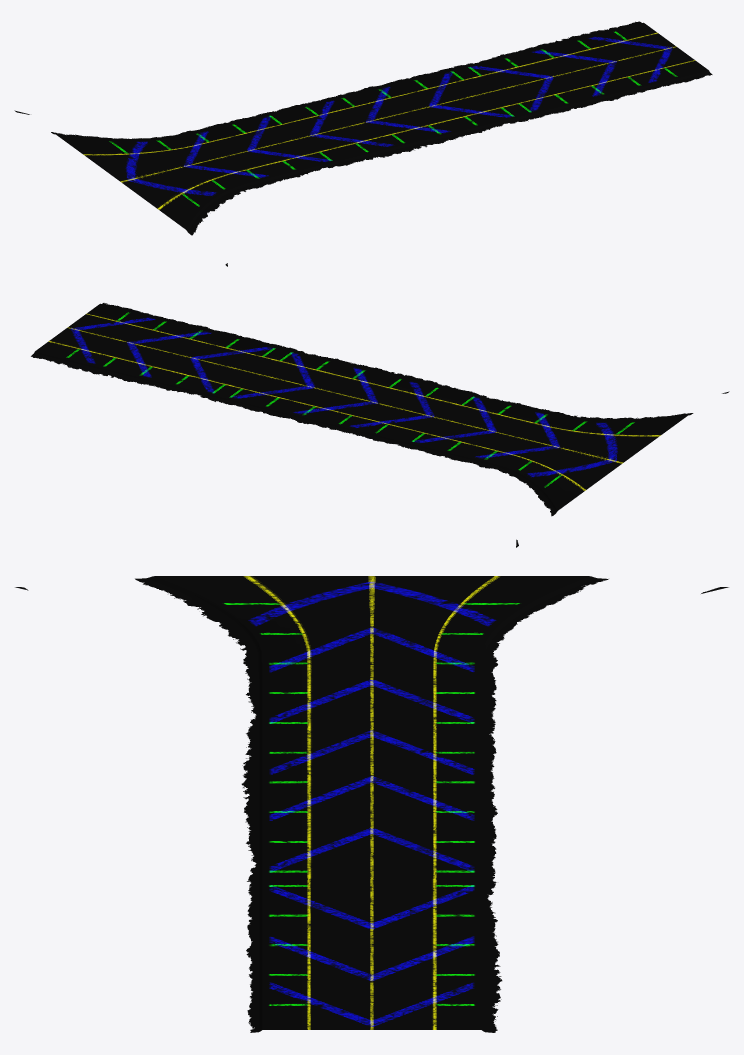
3 views of the same model, one above another, from view 1: azimuth 30°, elevation 25°; view 2: azimuth 150°, elevation 25°; view 3: azimuth 270°, elevation 25° (orthographic). The views are drawn at different scales.
Parts seen in each view (by area): view 1: SM_Road_Hangar_01_LOD0; view 2: SM_Road_Hangar_01_LOD0; view 3: SM_Road_Hangar_01_LOD0.
Boxes of the visible parts, x1,y1,x2,y2 form: SM_Road_Hangar_01_LOD0: (14,21,712,266); SM_Road_Hangar_01_LOD0: (31,303,729,547); SM_Road_Hangar_01_LOD0: (15,576,728,1032).
Bounding box in the file's own units: 12000 × 8000 × 135.
Materials: 1 (1 with a texture image).
